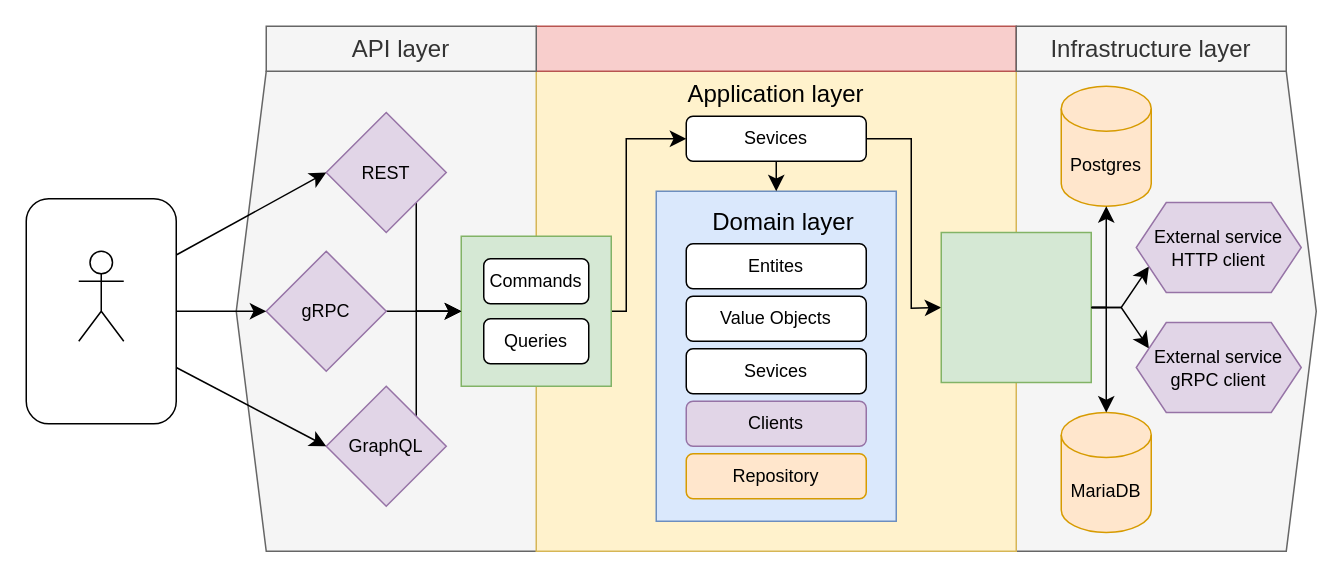
The diagram is 1343 pixels wide and 578 high, and some of its shapes have lost their labels. The shapes that lost their labels are listed below. From the top down, each one's centre as x and y in pixels, then its label:
At pixel 775 48: "Business layer".
At pixel 100 295: "Client".
At pixel 1015 306: "PORTS".
